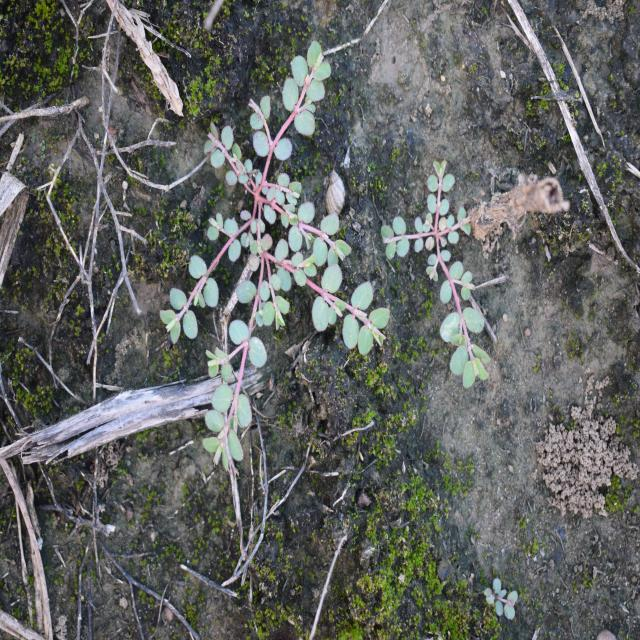SpottedSpurge: (158, 40, 393, 474), (378, 156, 492, 390), (482, 577, 520, 623)
